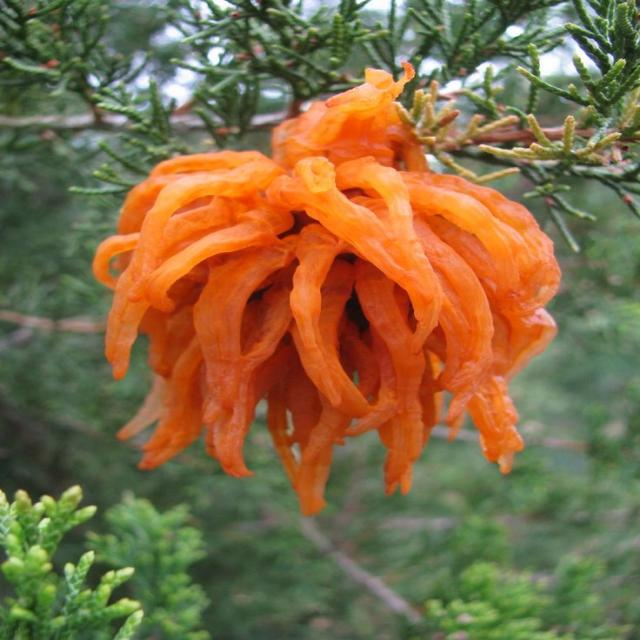Gymnosporangium_Rusts: (91, 60, 563, 517)
